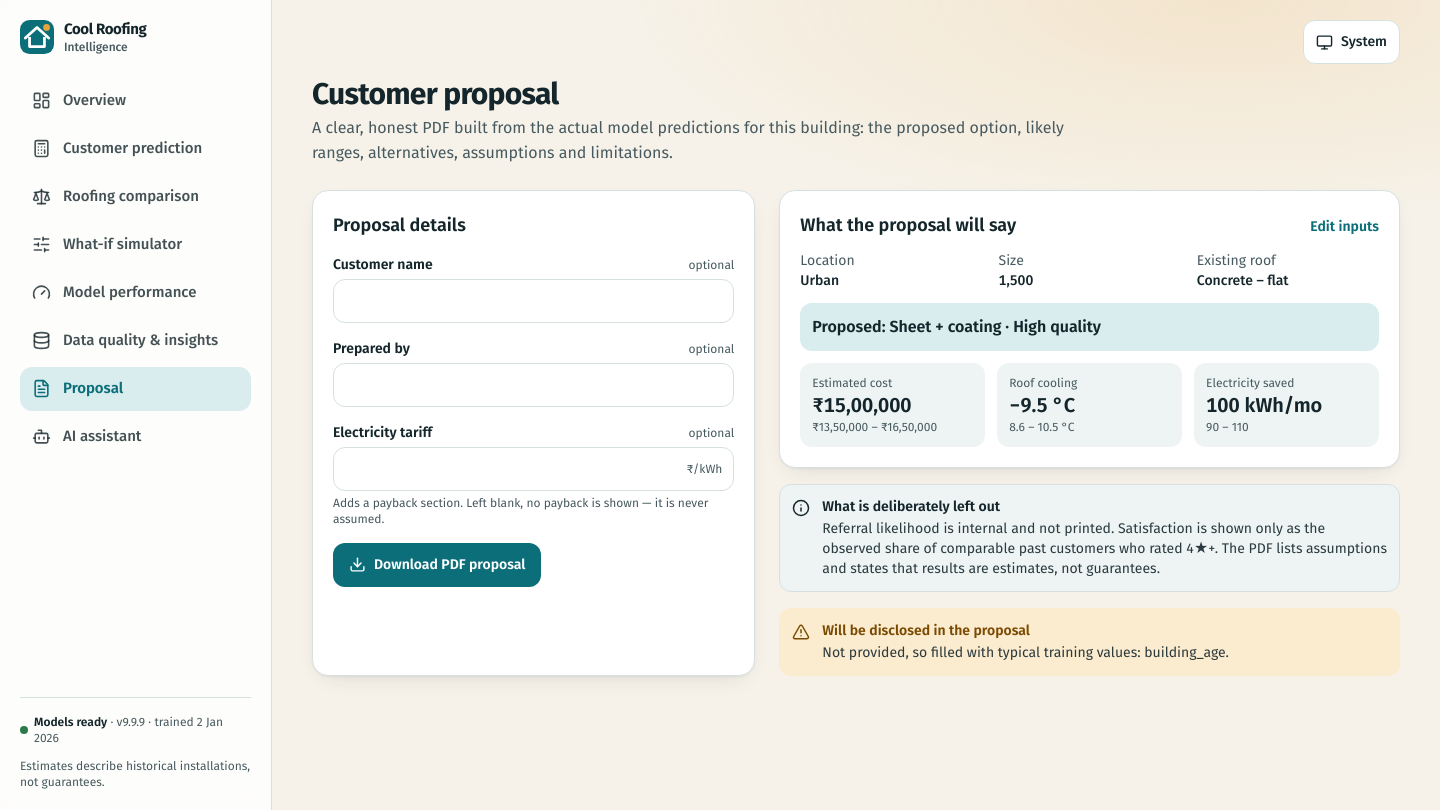
Scenario: proposal › builds the PDF request from the real inputs and rejects an invalid tariff locally
Expected: the heading "What the proposal will say" is shown, [800,211,1016,239]
In the number field labelled "Electricity tariff optional": (534, 469) [333,447,734,491], type "500"
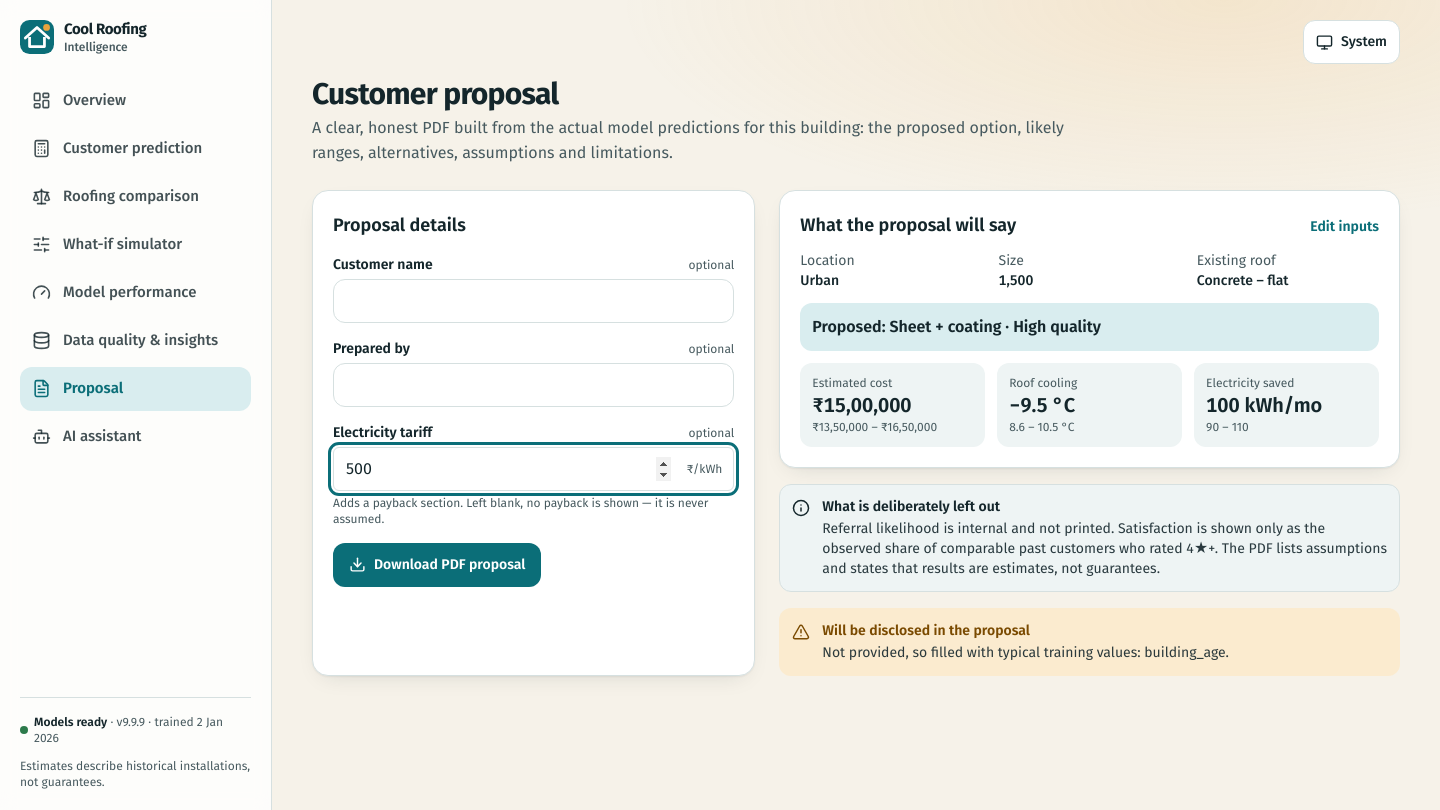
Click the button "Download PDF proposal": (437, 565) [333,543,541,587]
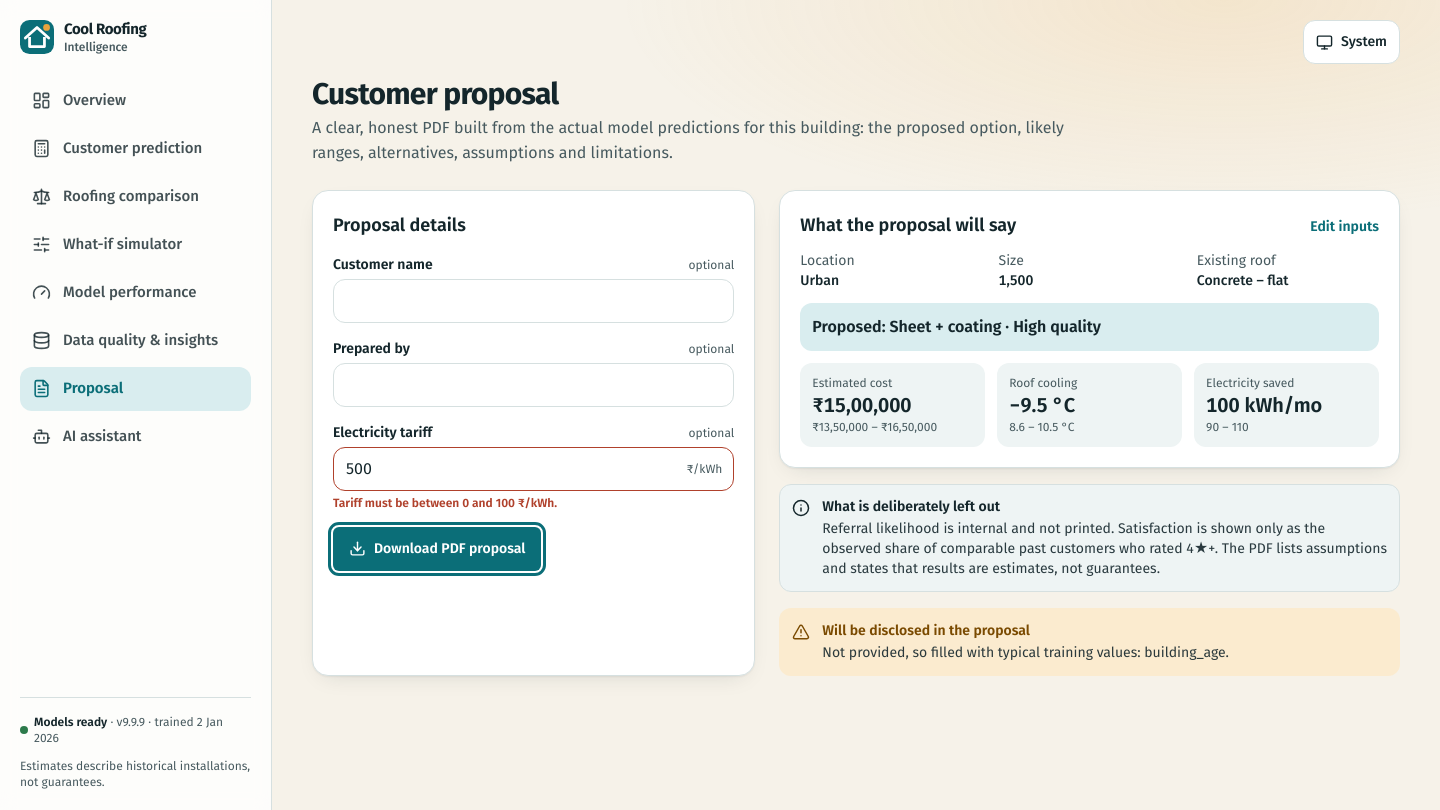
Now the text "Tariff must be between 0 and 100 ₹/kWh." is shown, box [333,496,557,510]
